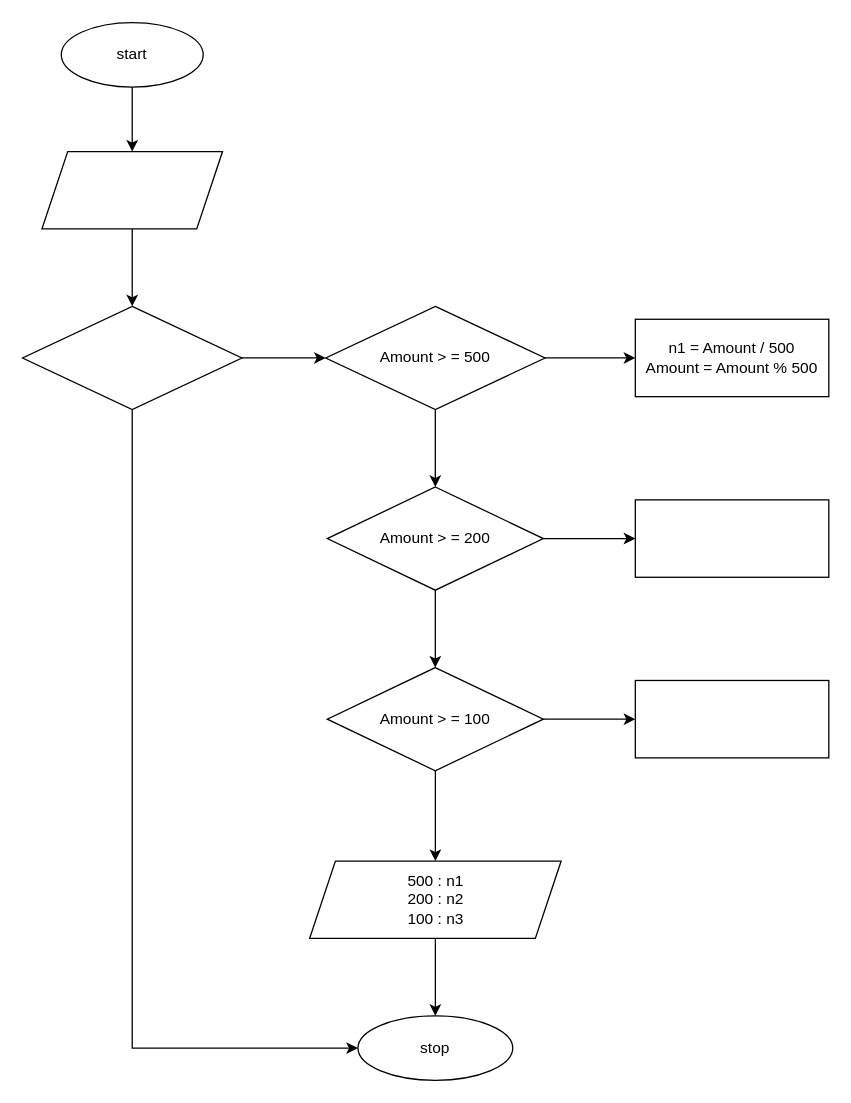
The diagram is 851 pixels wide and 1103 high, and some of its shapes have lost their labels. The shapes that lost their labels are listed below. From the top down, each one's centre as x and y in pixels, then its label:
At (132,189): "Accept Amount".
At (131,357): "Amount % 100 == 0".
At (731,538): "n2 = Amount / 500 Amount = Amount % 500".
At (731,718): "n3 = Amount / 500 Amount = Amount % 500".
